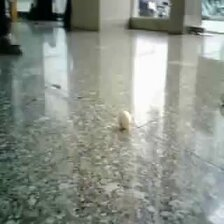w: (117, 110, 134, 129)
